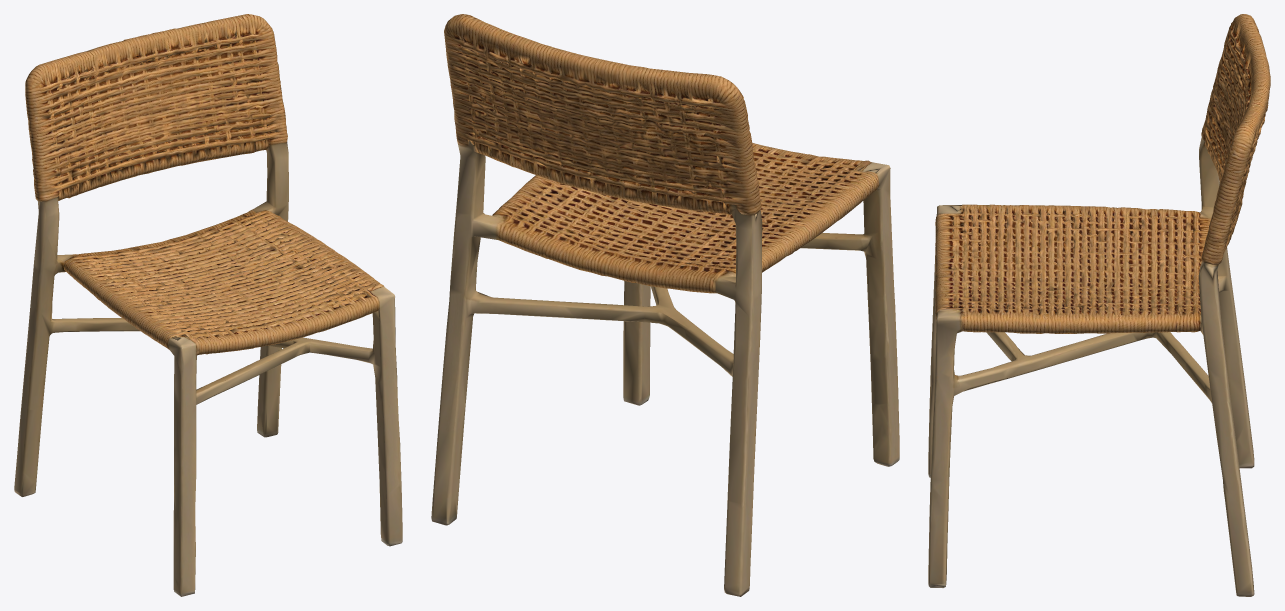
The model's file is cafechair.glb.
3 views of the same model, side by side, from view 1: azimuth 30°, elevation 25°; view 2: azimuth 150°, elevation 25°; view 3: azimuth 270°, elevation 25° (orthographic). The views are drawn at different scales.
Parts seen in each view (by area): view 1: tripo_node_31f12766-8293-424b-b3c6-709b9bef3fed; view 2: tripo_node_31f12766-8293-424b-b3c6-709b9bef3fed; view 3: tripo_node_31f12766-8293-424b-b3c6-709b9bef3fed.
Boxes of the visible parts, <box> form: tripo_node_31f12766-8293-424b-b3c6-709b9bef3fed: <box>14,14,402,596</box>; tripo_node_31f12766-8293-424b-b3c6-709b9bef3fed: <box>431,14,899,596</box>; tripo_node_31f12766-8293-424b-b3c6-709b9bef3fed: <box>928,14,1270,596</box>.
Bounding box in the file's own units: 0.5392 × 0.8491 × 0.573.
Materials: 1 (1 with a texture image).
